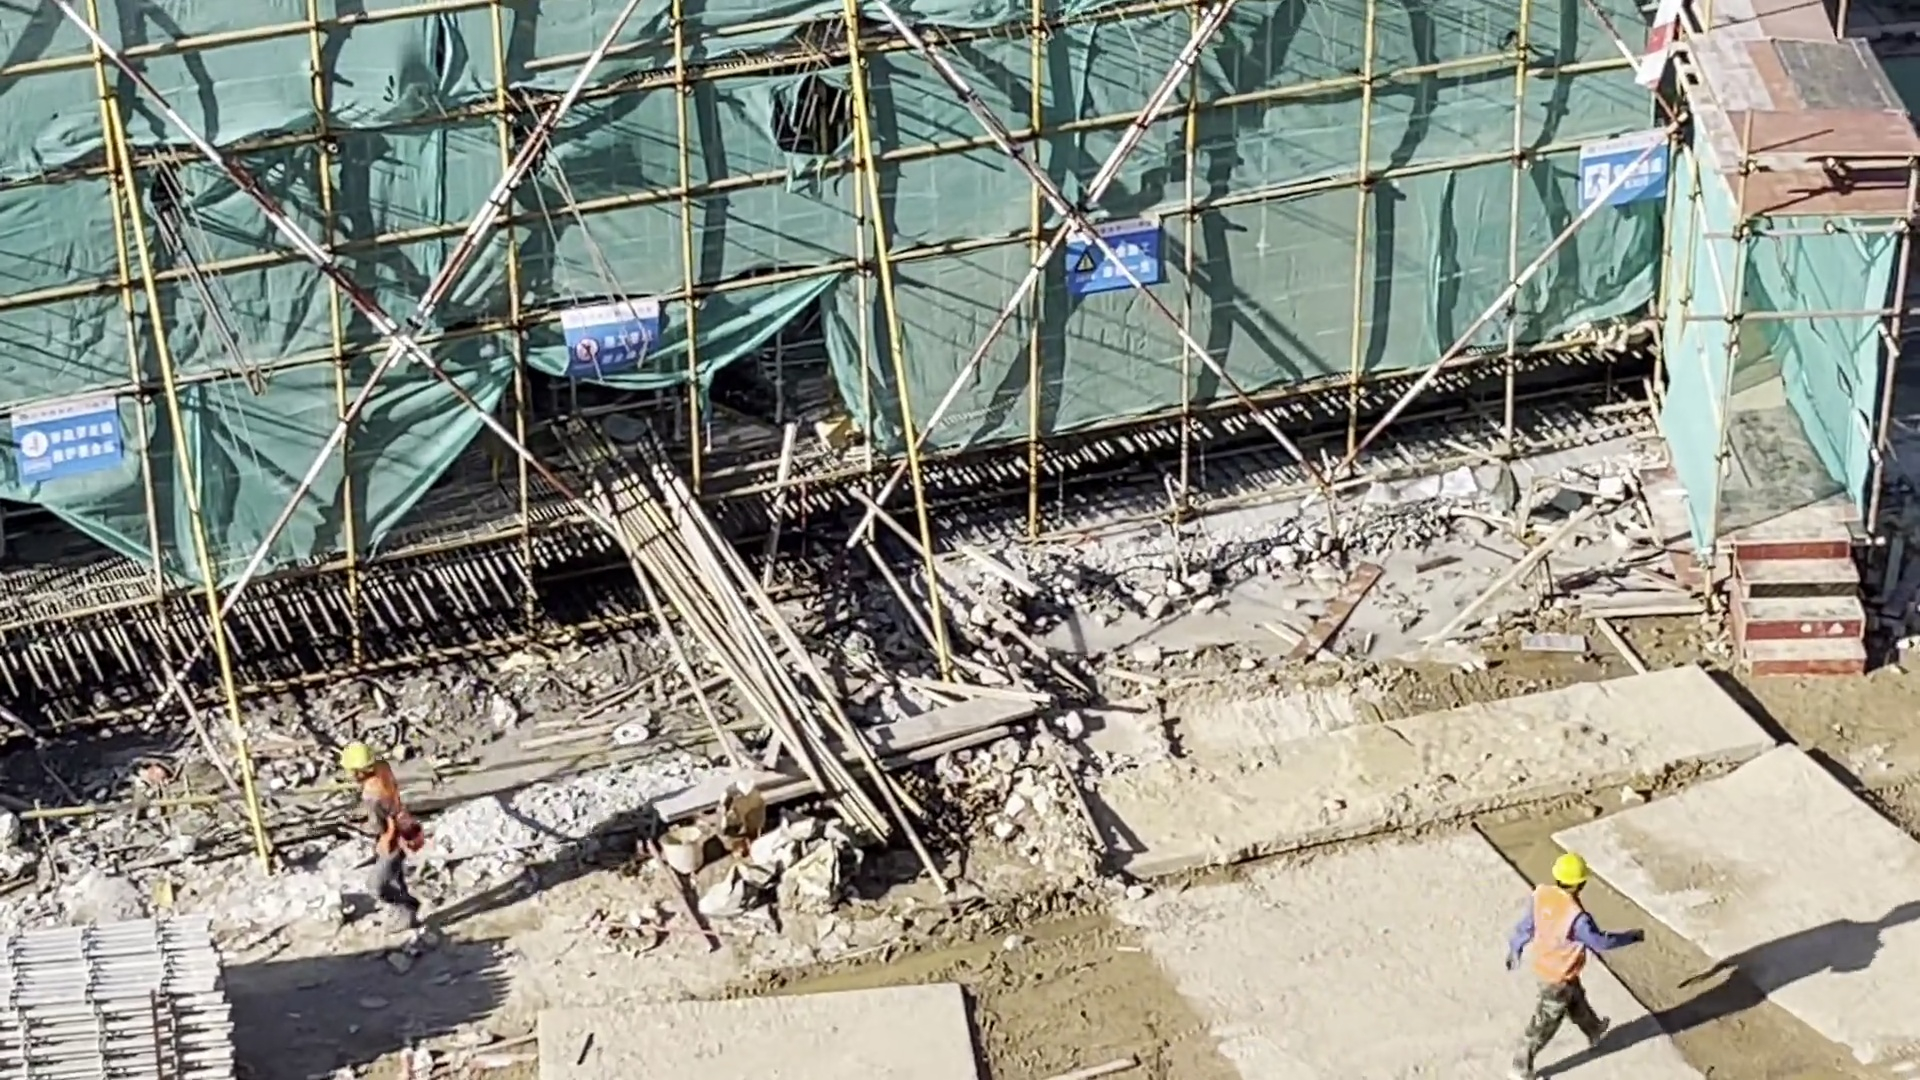helmet: (1534, 842, 1596, 891), (337, 737, 385, 776)
person: (1499, 853, 1648, 1080), (318, 737, 449, 923)
scaffold: (1, 914, 272, 1077)
slogan: (1, 390, 177, 482), (561, 298, 692, 394), (1044, 217, 1191, 293), (1576, 134, 1689, 214)
vest: (1519, 882, 1593, 991), (360, 763, 415, 853)
